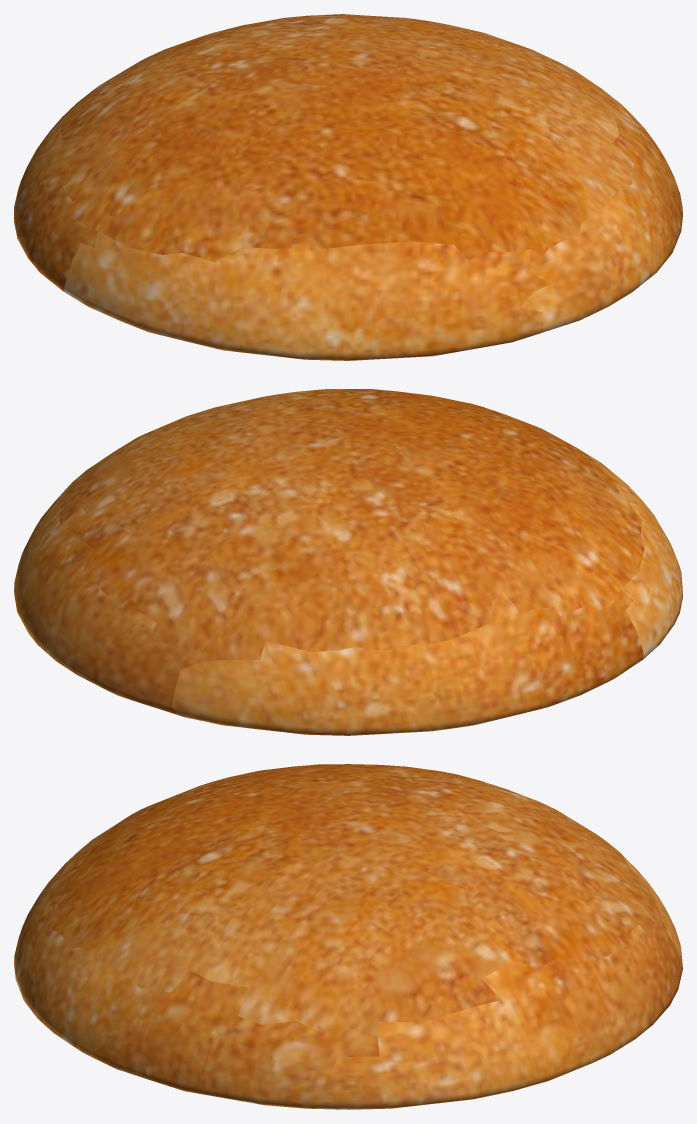
File: hamburguesa_pansuperior.fbx
3 views of the same model, one above another, from view 1: azimuth 30°, elevation 25°; view 2: azimuth 150°, elevation 25°; view 3: azimuth 270°, elevation 25° (orthographic).
Visible parts, largest first — view 1: Pan_Superior; view 2: Pan_Superior; view 3: Pan_Superior.
Part boxes in pixels (left/top/right/bottom): Pan_Superior: left=14, top=14, right=682, bottom=360; Pan_Superior: left=14, top=389, right=682, bottom=735; Pan_Superior: left=14, top=764, right=682, bottom=1109.
Bounding box in the file's own units: 256 × 67.16 × 256.
1 material, 1 textured.
